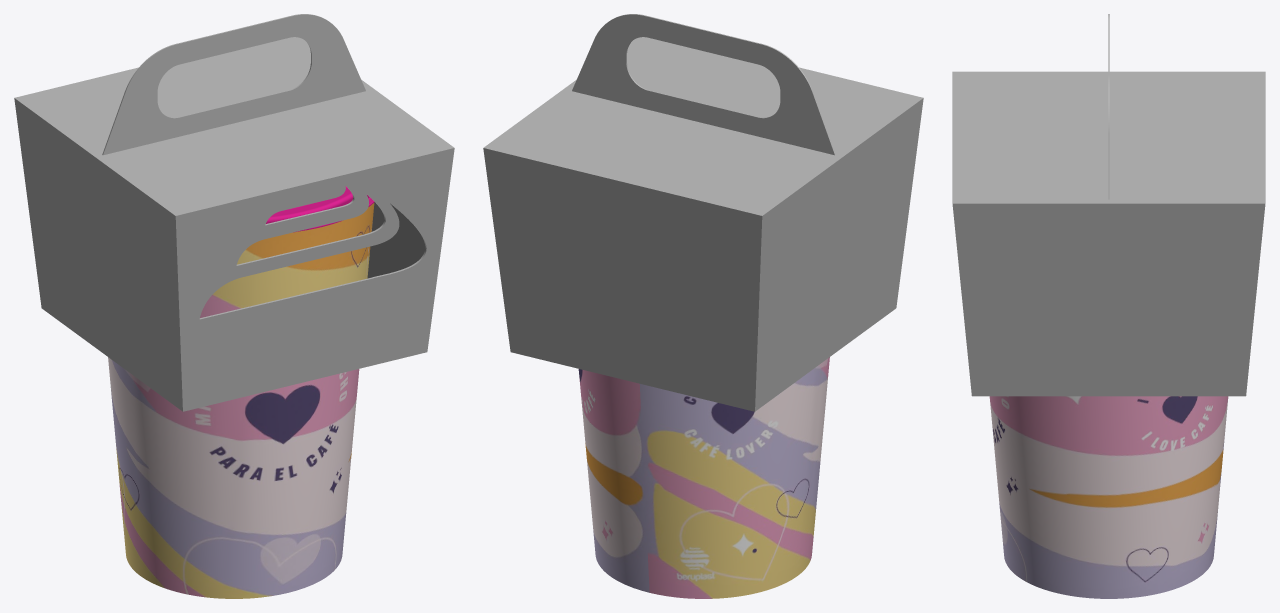
File: Sombrero_010.glb
3 views of the same model, side by side, from view 1: azimuth 30°, elevation 25°; view 2: azimuth 150°, elevation 25°; view 3: azimuth 270°, elevation 25° (orthographic). The views are drawn at different scales.
Parts seen in each view (by area): view 1: object_2_n3d, object_1%2E002_n3d, object_1_n3d, tapa pico; view 2: object_2_n3d, object_1%2E002_n3d, object_1_n3d; view 3: object_2_n3d, object_1%2E002_n3d.
Part boxes in pixels (bbox=[...]): object_2_n3d: bbox=[14, 37, 454, 411]; object_1%2E002_n3d: bbox=[108, 203, 374, 598]; object_1_n3d: bbox=[102, 14, 365, 155]; tapa pico: bbox=[266, 186, 374, 232]; object_2_n3d: bbox=[483, 37, 923, 411]; object_1%2E002_n3d: bbox=[578, 357, 829, 598]; object_1_n3d: bbox=[572, 14, 835, 155]; object_2_n3d: bbox=[952, 71, 1265, 396]; object_1%2E002_n3d: bbox=[989, 396, 1228, 598].
Size of the model in its own units: 1.27 by 2.27 by 1.27.
Materials: 4 (1 with a texture image).
